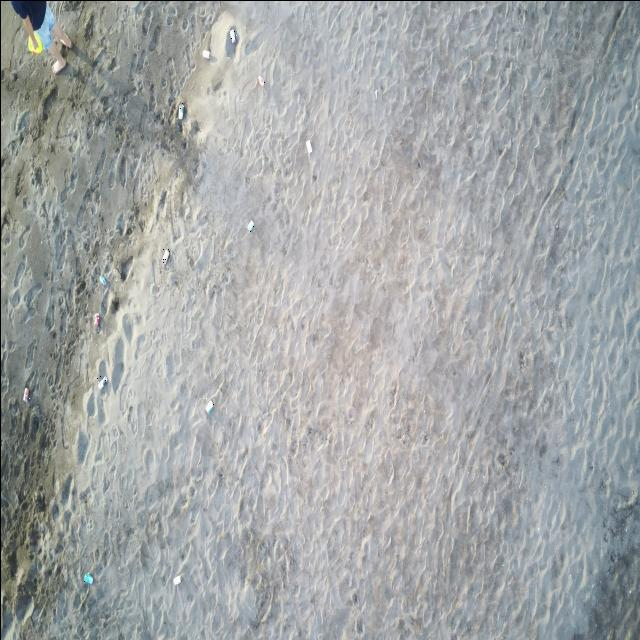Garbage: (224, 26, 238, 56), (27, 32, 43, 54), (228, 28, 236, 43), (98, 375, 107, 388), (204, 400, 213, 413), (94, 312, 100, 331), (161, 248, 168, 264), (83, 572, 92, 584), (100, 275, 108, 287), (201, 48, 209, 59), (256, 75, 264, 85), (23, 387, 28, 402), (172, 575, 180, 584), (179, 102, 183, 120), (306, 140, 311, 154), (247, 220, 252, 231)
